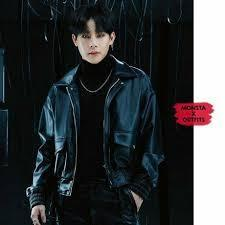jacket: (26, 57, 163, 210)
